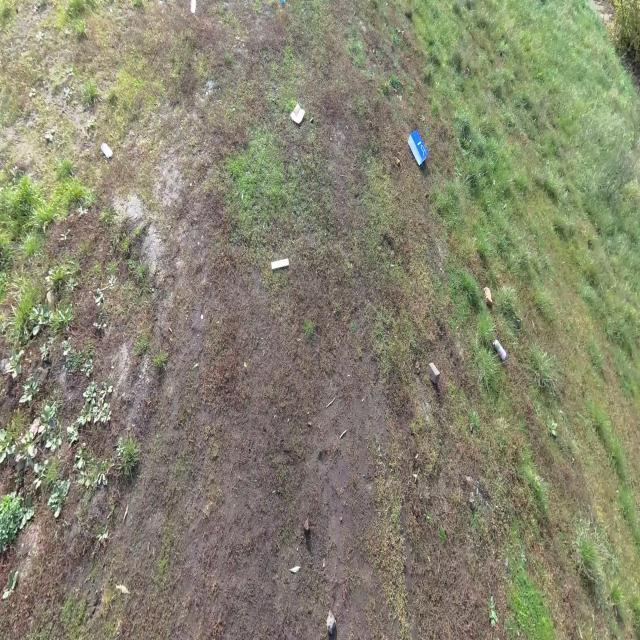rubbish: (407, 129, 427, 167), (492, 337, 508, 362), (289, 103, 306, 125), (427, 361, 441, 386), (326, 610, 337, 635), (271, 257, 289, 270), (100, 141, 113, 159), (482, 287, 493, 306), (303, 513, 310, 530), (190, 0, 196, 13), (281, 0, 286, 3)
